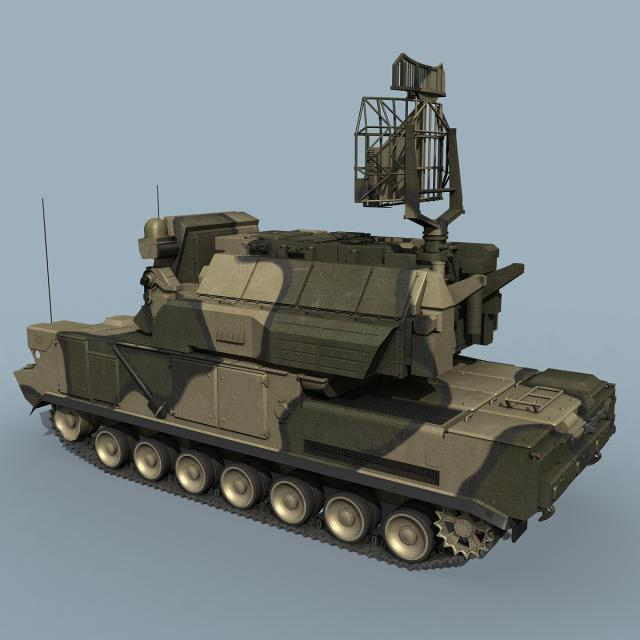MIL_EW_RDR: (23, 34, 616, 592)
